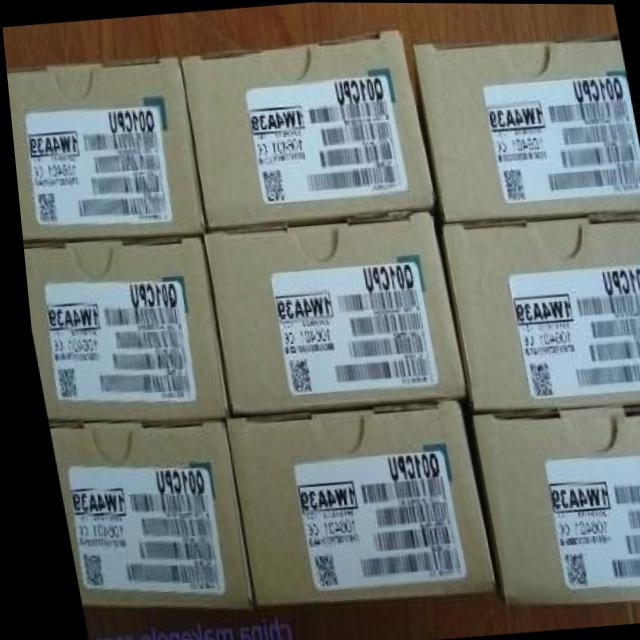box: (217, 397, 485, 603), (197, 211, 458, 414), (178, 31, 432, 231), (410, 34, 640, 222), (438, 218, 640, 411), (41, 417, 243, 609), (18, 235, 219, 419), (5, 57, 200, 238), (465, 405, 640, 603)
